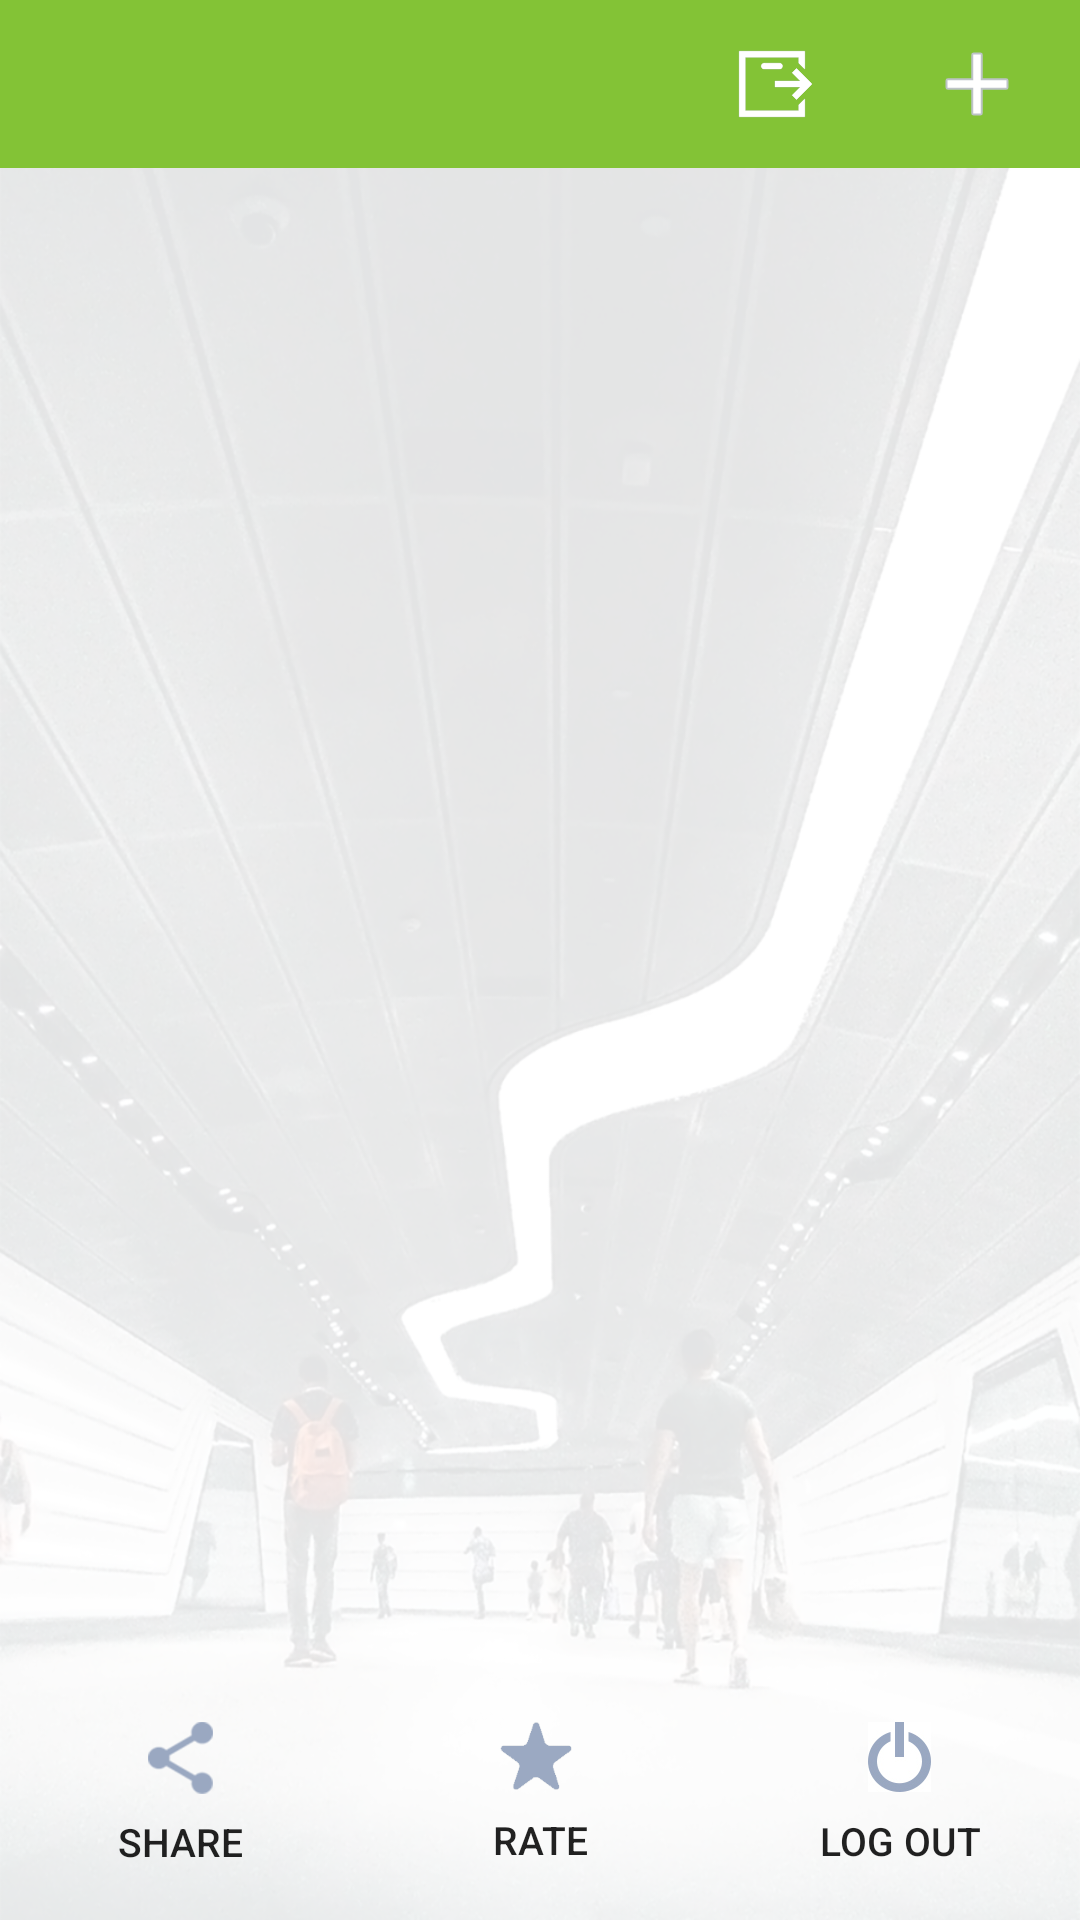

Icons on this 1080*1920 Android screen, each with its box as [x1,y1,x2,y2]:
Transfer: [739,51,812,117]
